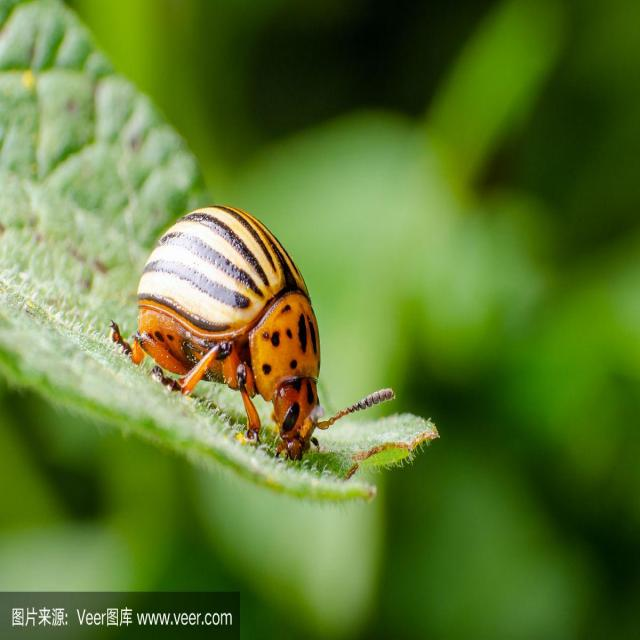ShuCaiHuaBanChong-Grown-: (116, 198, 364, 486)
